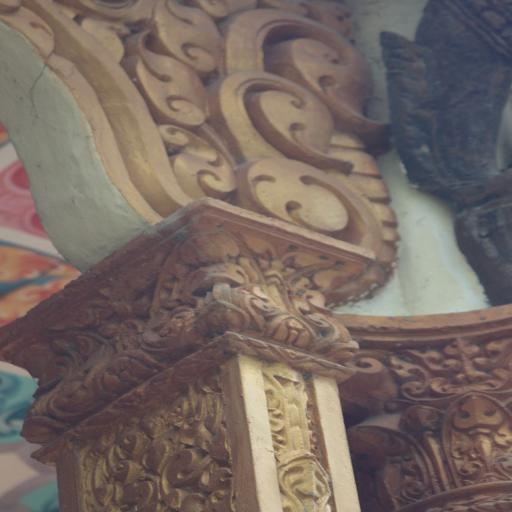la: (25, 280, 204, 404), (87, 422, 232, 512), (226, 265, 354, 352), (444, 393, 512, 484), (406, 341, 512, 392), (264, 371, 317, 454), (268, 455, 337, 512), (384, 438, 431, 507)
lua: (58, 0, 406, 228)
